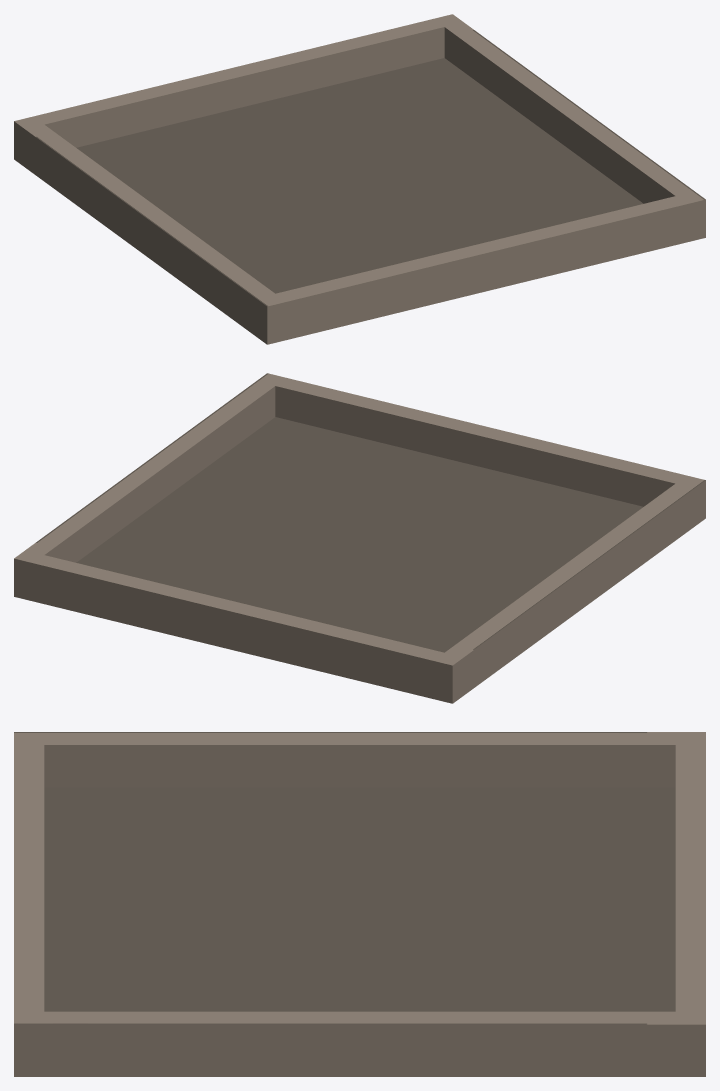
Rendered from building-01-top-01.glb.
The picture shows the model from 3 angles, top to bottom: view 1: azimuth 30°, elevation 25°; view 2: azimuth 150°, elevation 25°; view 3: azimuth 270°, elevation 25°; orthographic projection. The views are drawn at different scales.
Visible parts, largest first — view 1: Cube; view 2: Cube; view 3: Cube.
Boxes of the visible parts, <box> form: Cube: <box>14,14,705,344</box>; Cube: <box>14,373,705,703</box>; Cube: <box>14,732,705,1076</box>.
Size of the model in its own units: 12 by 1 by 12.
Materials: 1 (1 with a texture image).
